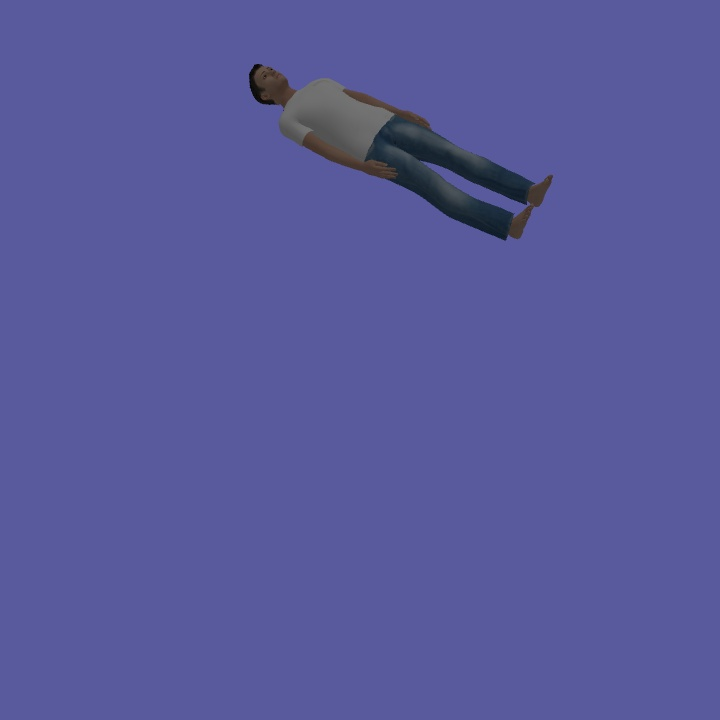victim: (243, 58, 557, 240)
